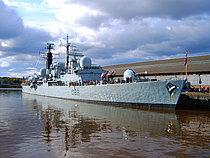MIL_Ship: (19, 33, 187, 110)
